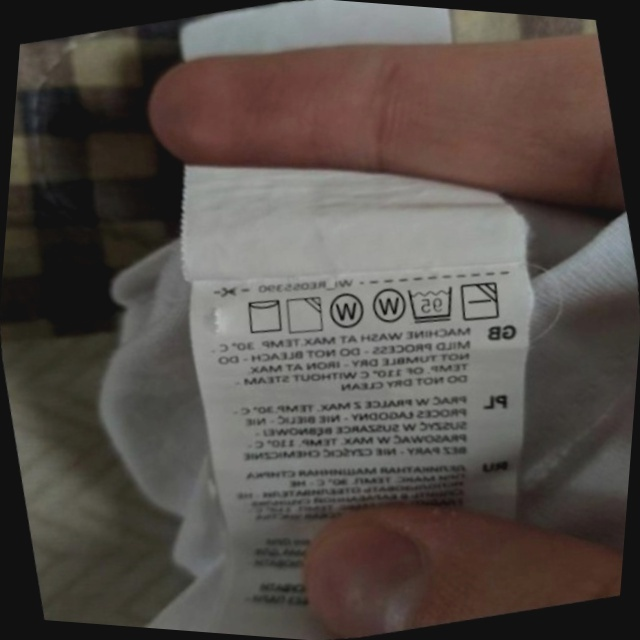95C: (399, 275, 463, 333)
dry_flat_in_shade: (452, 272, 509, 330)
line_dry: (236, 288, 291, 343)
shade_dry: (277, 287, 332, 342)
wet_clean: (320, 284, 373, 338), (362, 277, 413, 332)
